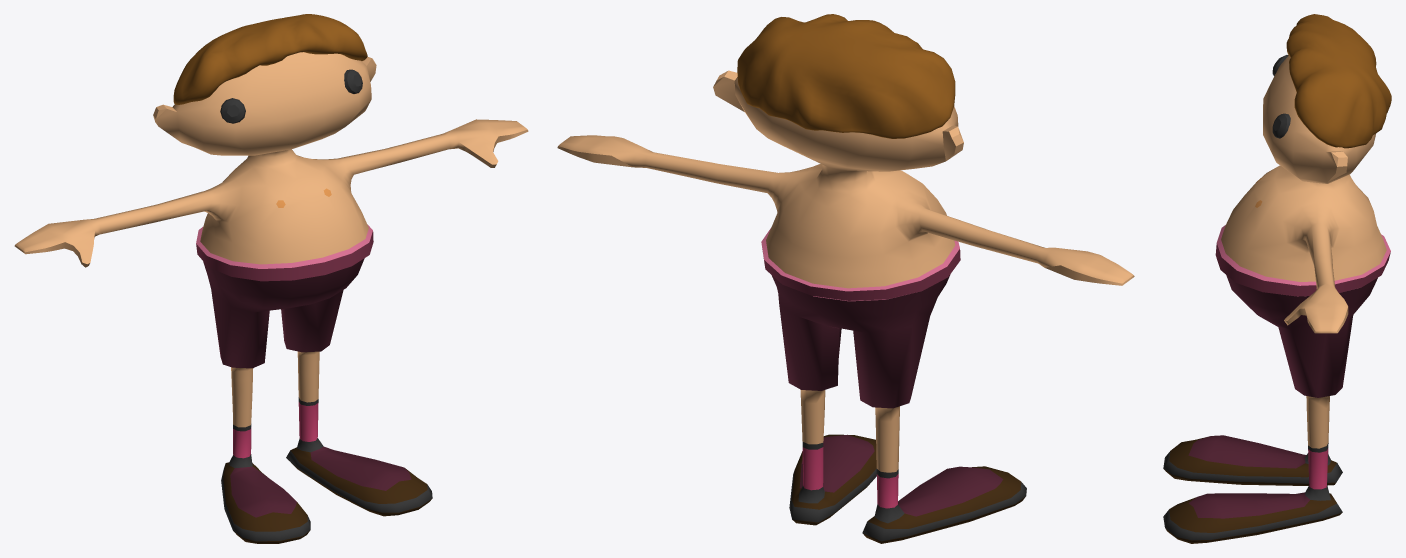
The model's file is Char_Sanchez.FBX.
The picture shows the model from 3 angles, left to right: view 1: azimuth 30°, elevation 25°; view 2: azimuth 150°, elevation 25°; view 3: azimuth 270°, elevation 25°; orthographic projection. The views are drawn at different scales.
Visible parts, largest first — view 1: Char_Sanchez; view 2: Char_Sanchez; view 3: Char_Sanchez.
Boxes of the visible parts, x1,y1,x2,y2 form: Char_Sanchez: (14, 14, 528, 543); Char_Sanchez: (557, 14, 1134, 543); Char_Sanchez: (1163, 14, 1391, 543).
Bounding box in the file's own units: 368 × 314 × 141.
1 material, 1 textured.
